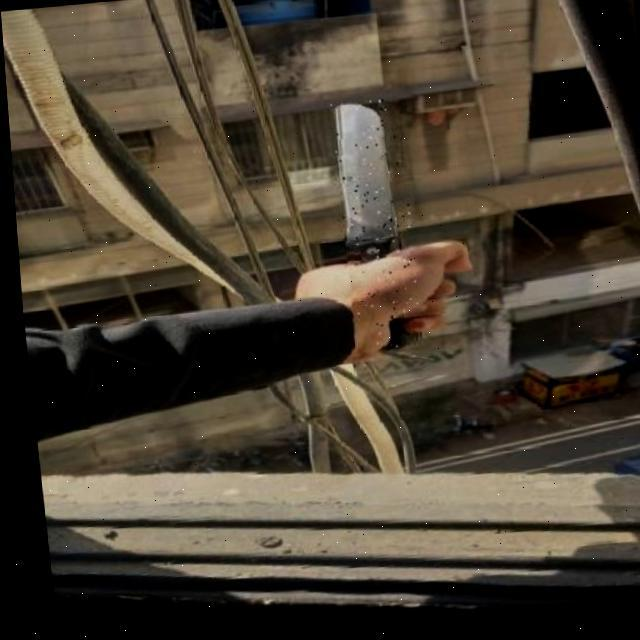knife: (328, 102, 418, 360)
